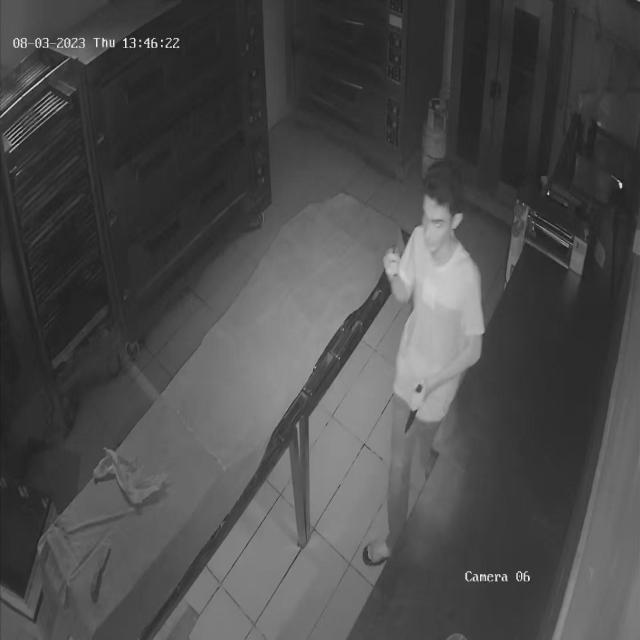Knife: (398, 380, 427, 441)
